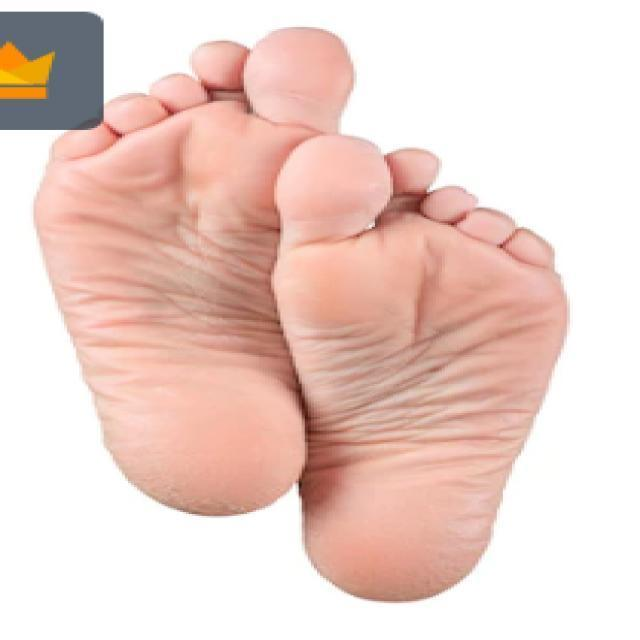No_Shoes: (244, 131, 589, 624), (31, 28, 360, 526)
